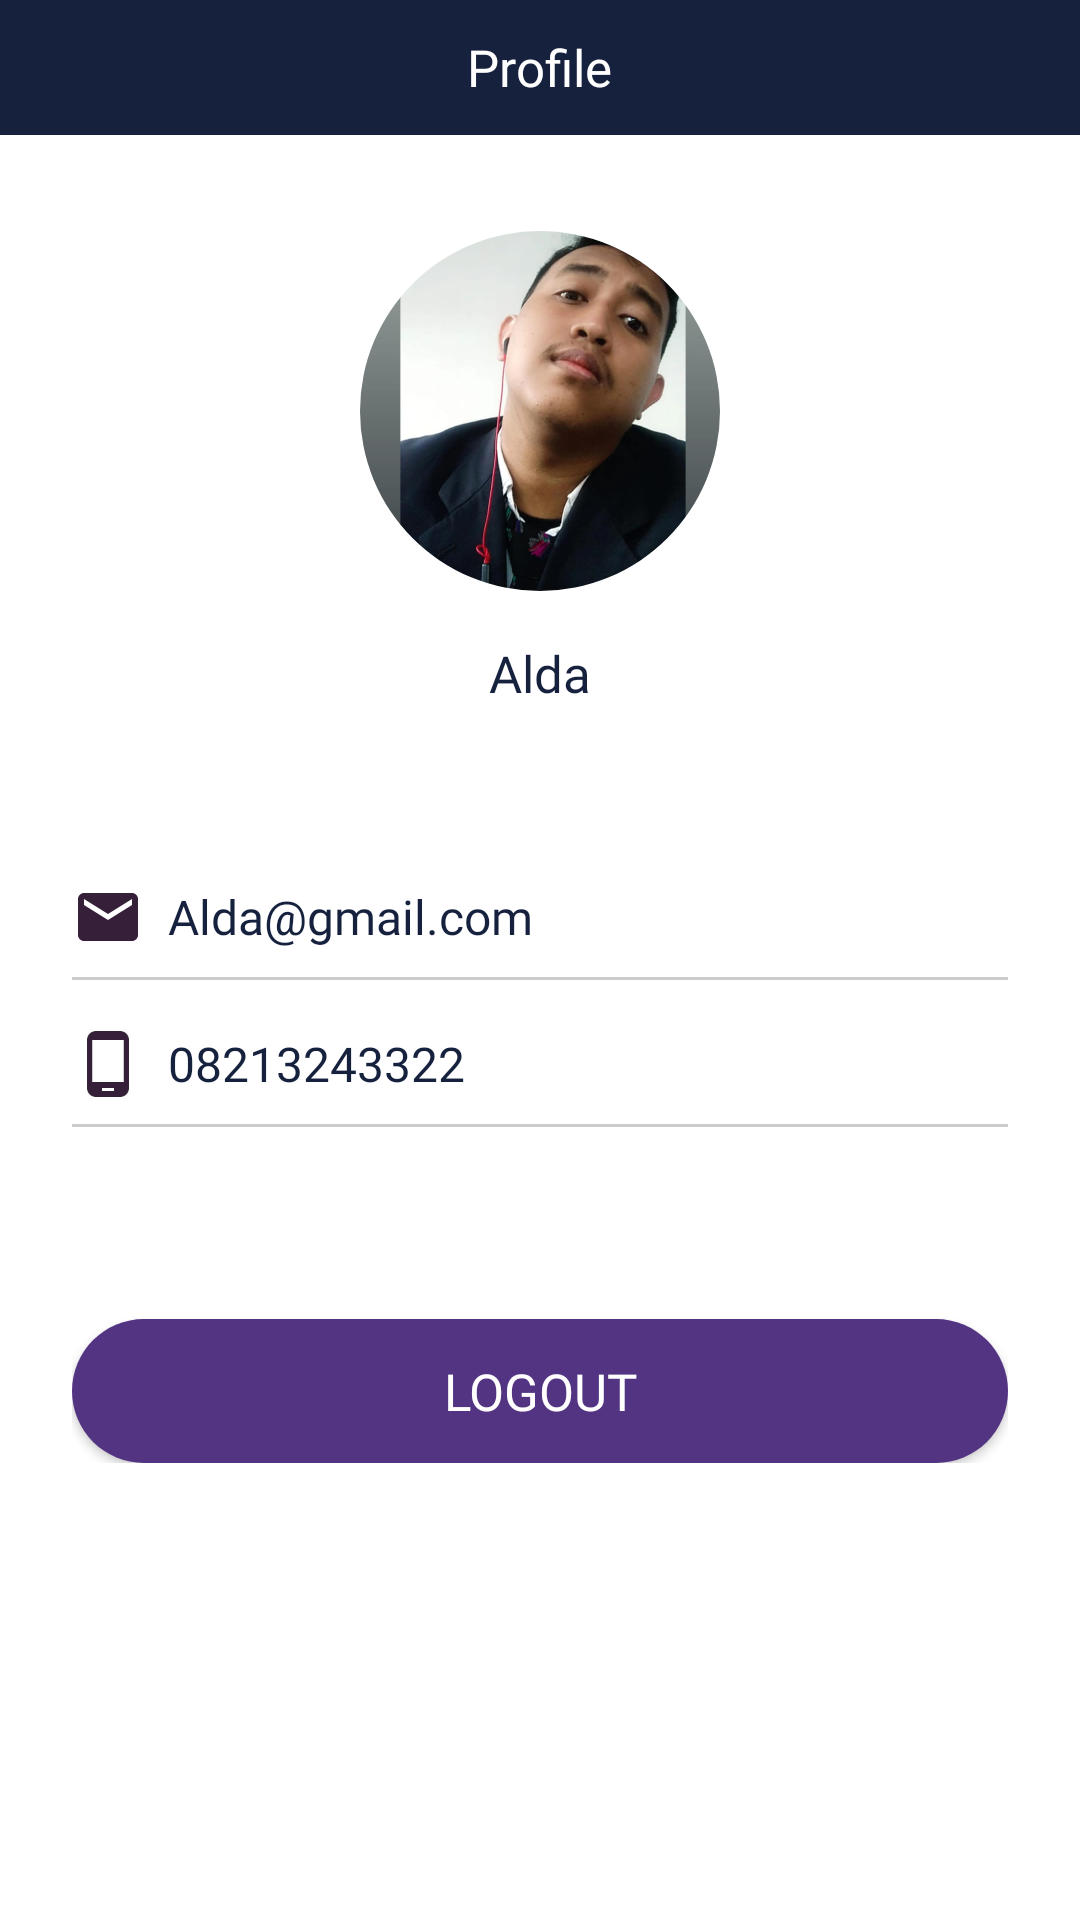

Named icons in this screenshot (1080 x 1920) and their centers, point (x, y):
email: point (108, 917)
person: point (540, 411)
phone: point (108, 1064)
